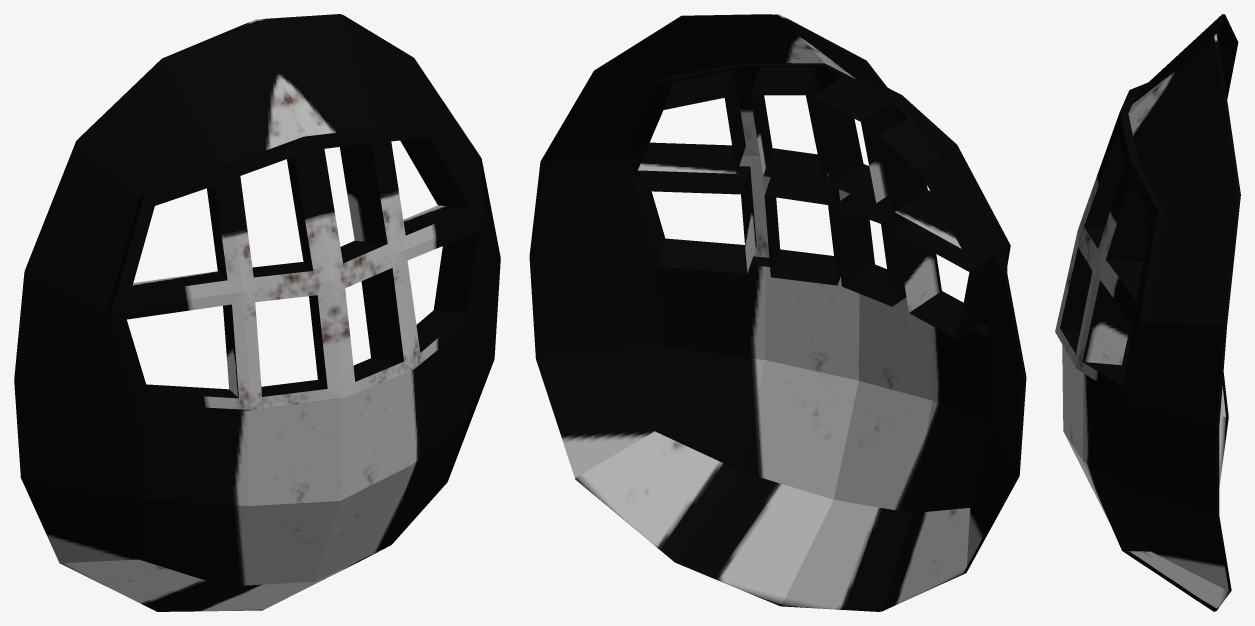
The model's file is Roundcube.002.fbx.
3 views of the same model, side by side, from view 1: azimuth 30°, elevation 25°; view 2: azimuth 150°, elevation 25°; view 3: azimuth 270°, elevation 25° (orthographic). The views are drawn at different scales.
Parts seen in each view (by area): view 1: Roundcube.002_Baked; view 2: Roundcube.002_Baked; view 3: Roundcube.002_Baked.
Part boxes in pixels (box(x1,y1,x2,y2)): Roundcube.002_Baked: box(14, 14, 500, 611); Roundcube.002_Baked: box(529, 14, 1026, 611); Roundcube.002_Baked: box(1055, 14, 1240, 611).
Size of the model in its own units: 169 by 194 by 59.47.
Materials: 1 (1 with a texture image).
